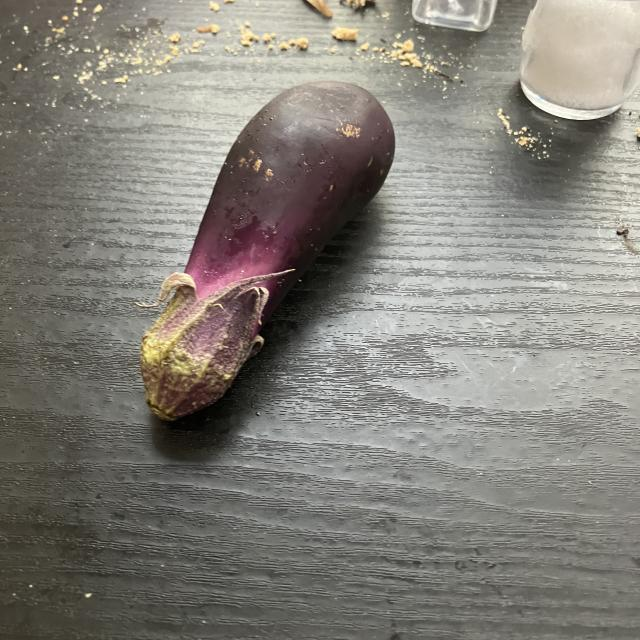eggplant: (138, 75, 396, 427)
